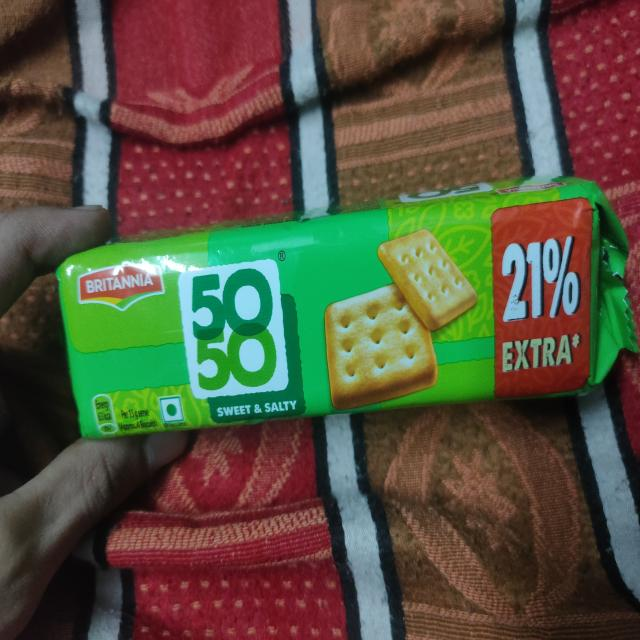biscuit: (52, 178, 638, 461)
